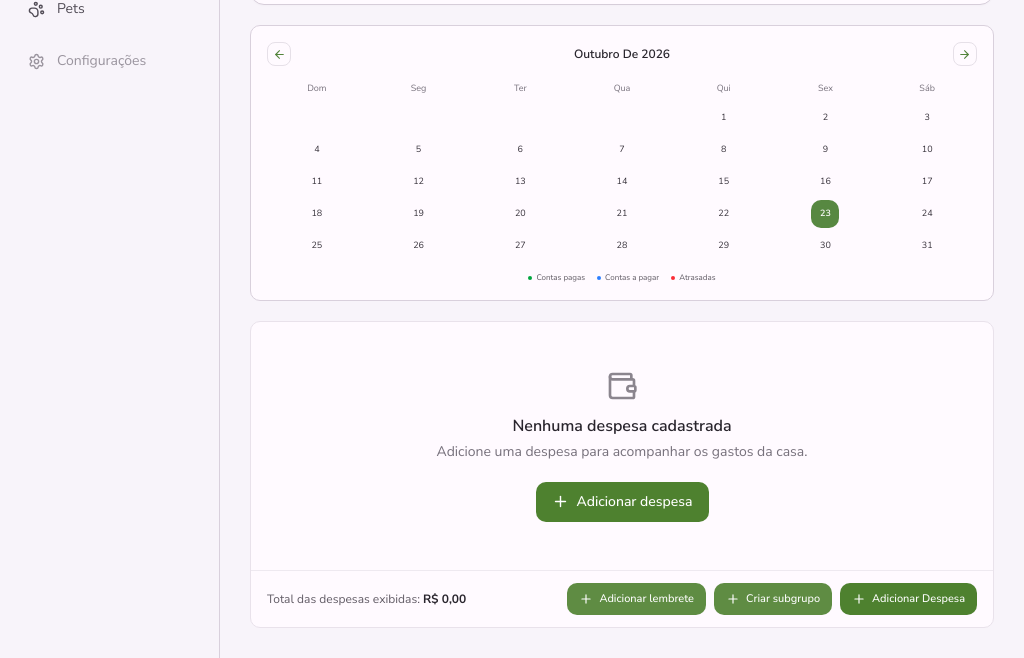
Test: FinancePage expense CRUD › creates an expense from the add modal and updates the list
(page scrolled)
Expected: the heading "Nenhuma despesa cadastrada" is shown, top-left (512, 414), bottom-right (732, 436)
Click the button "Adicionar despesa". click: (622, 502)
box: top-left (536, 482), bottom-right (708, 522)
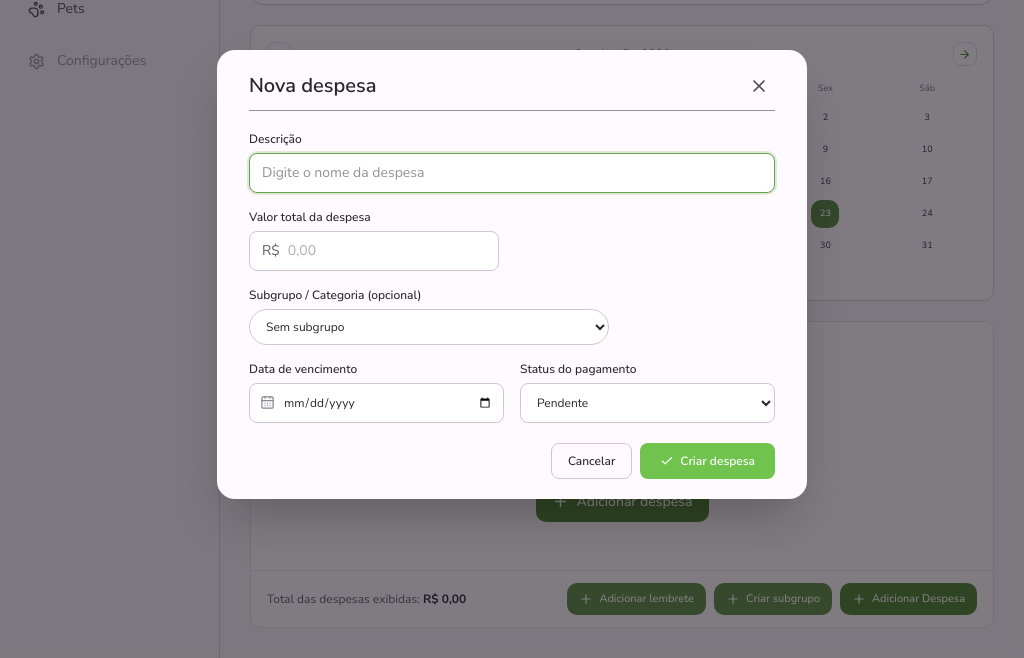
Type "Internet" into the field labelled "Descrição". click: (512, 172)
box: top-left (249, 152), bottom-right (775, 192)
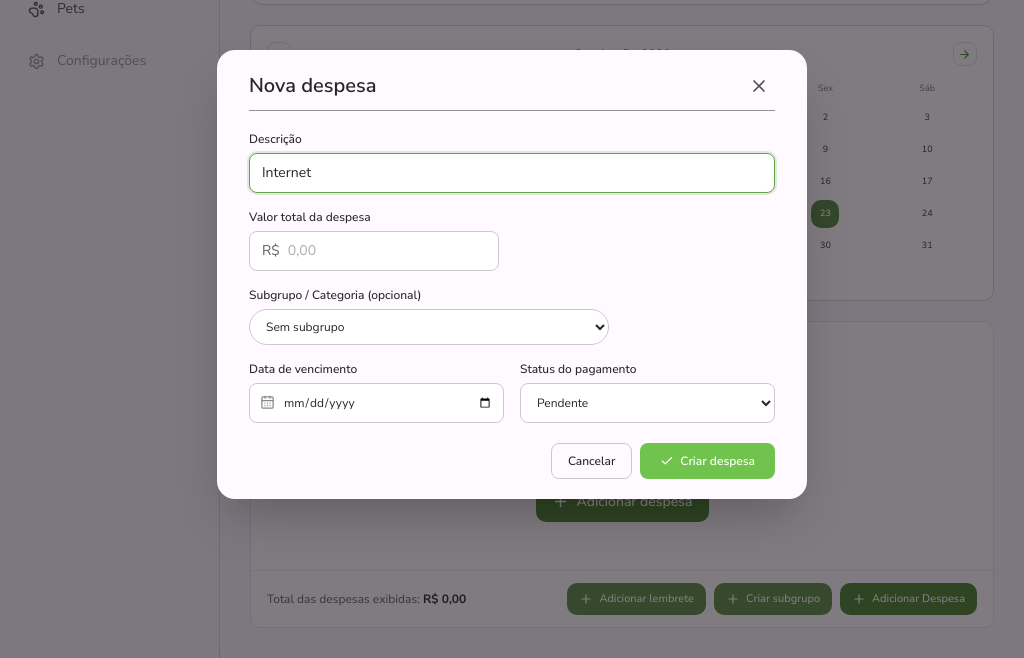
Type "120,00" into the field labelled "Valor total da despesa R$". click: (387, 250)
box: top-left (288, 240), bottom-right (486, 260)
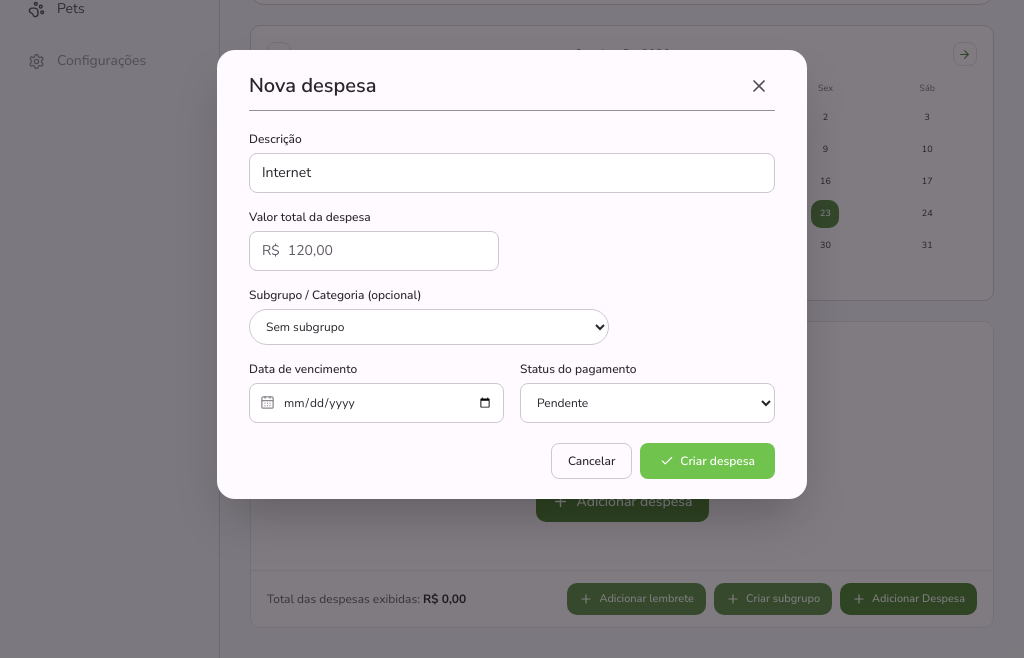
Type "2026-10-12" into the date field labelled "Data de vencimento". click: (388, 402)
box: top-left (283, 394), bottom-right (493, 410)
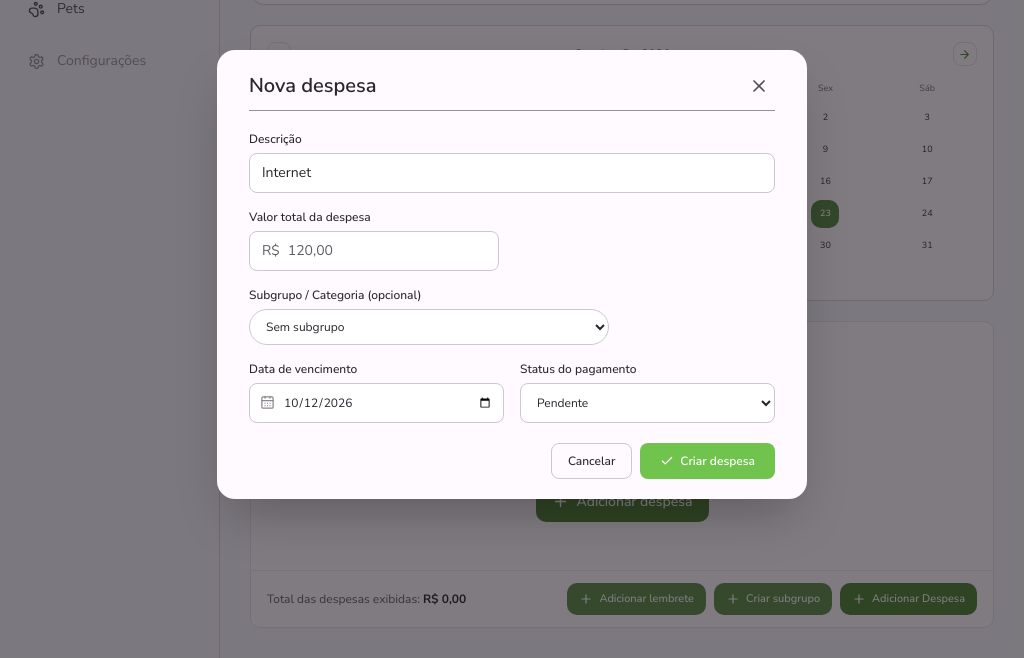
Click the button "Criar despesa". click: (708, 460)
box: top-left (640, 442), bottom-right (775, 478)
(page scrolled)
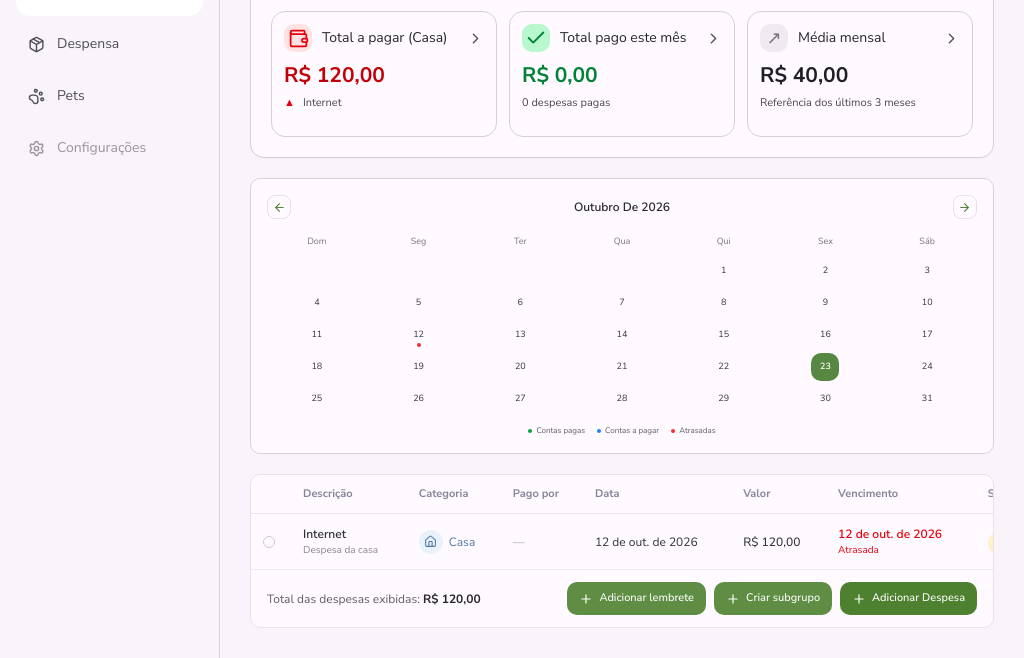
Result: the row "Internet" is shown at top-left (251, 514), bottom-right (993, 570)
